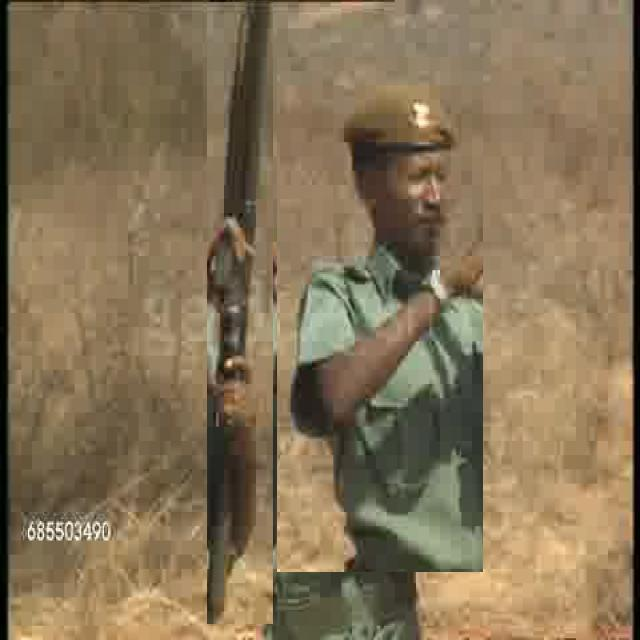poacher: (277, 57, 483, 572)
weapon: (207, 2, 273, 624)
